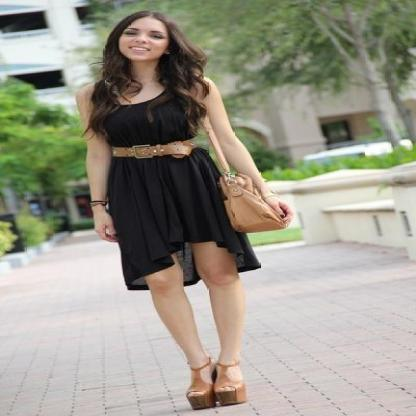bag: (216, 155, 289, 232)
dress: (99, 84, 260, 290)
shoe: (186, 356, 244, 406)
